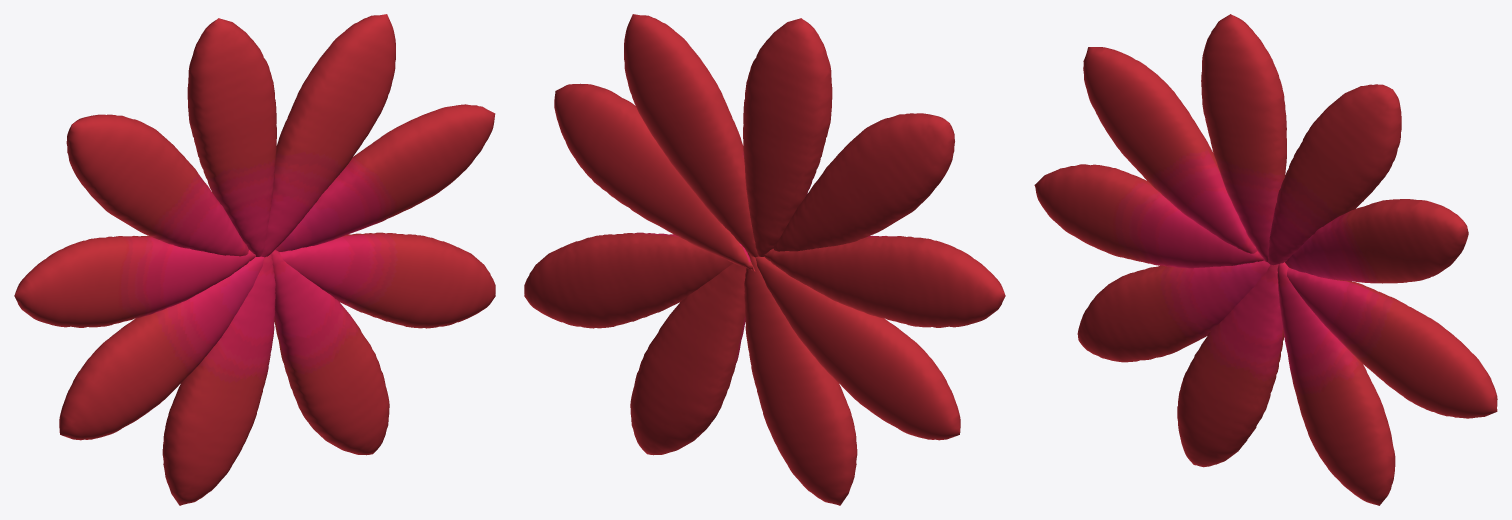
File: flowerRed.fbx
3 views of the same model, side by side, from view 1: azimuth 30°, elevation 25°; view 2: azimuth 150°, elevation 25°; view 3: azimuth 330°, elevation 25° (orthographic). The views are drawn at different scales.
Parts seen in each view (by area): view 1: root (×9); view 2: root (×9); view 3: root (×9).
Part boxes in pixels (<box>): root (×9): <box>14,14,495,505</box>; root (×9): <box>524,14,1005,505</box>; root (×9): <box>1034,14,1497,505</box>.
Bounding box in the file's own units: 0.1467 × 0.1393 × 0.0177.
Materials: 9 (9 with a texture image).
